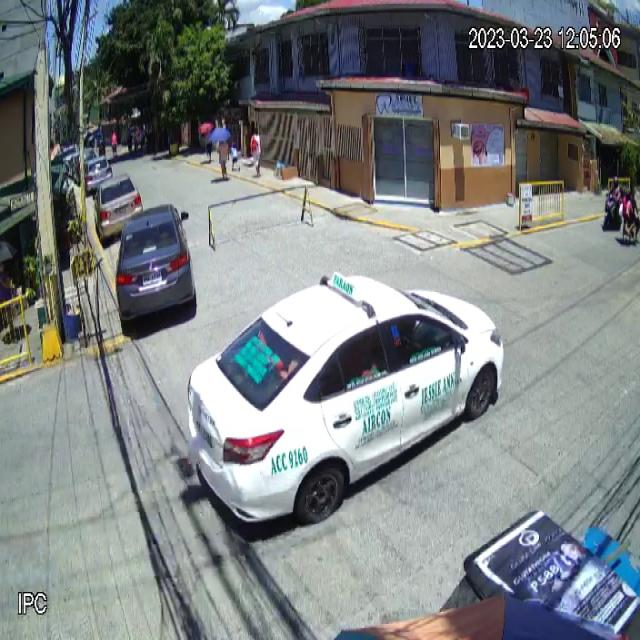Car: (185, 271, 504, 529), (115, 202, 197, 326)
